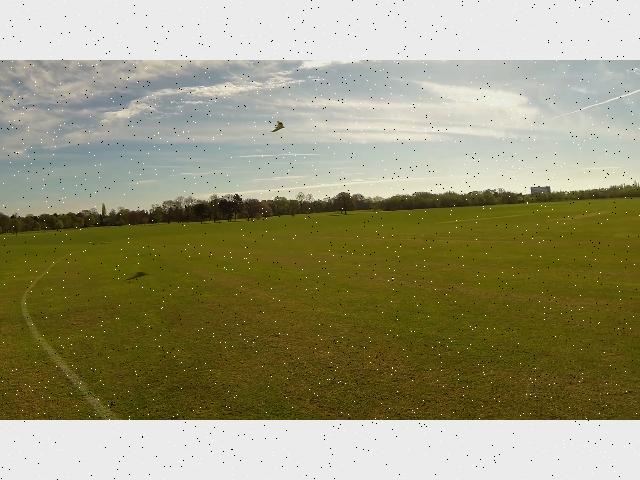Anti-Drone: (259, 114, 293, 140)
